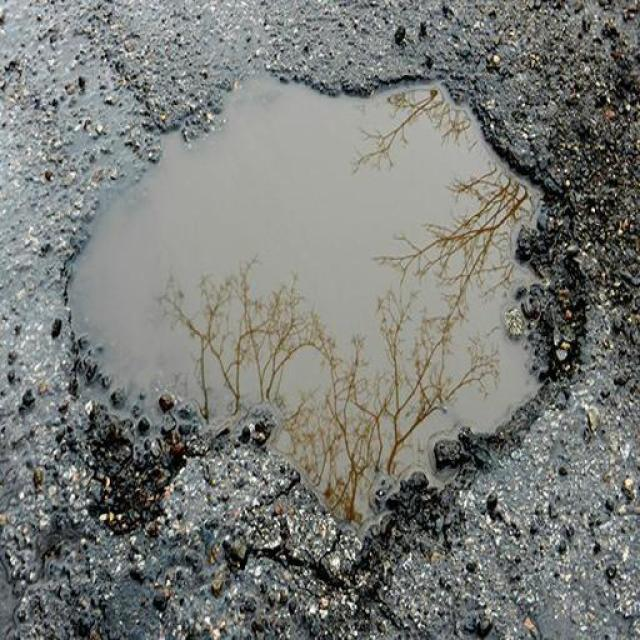puddle: (75, 80, 545, 505)
